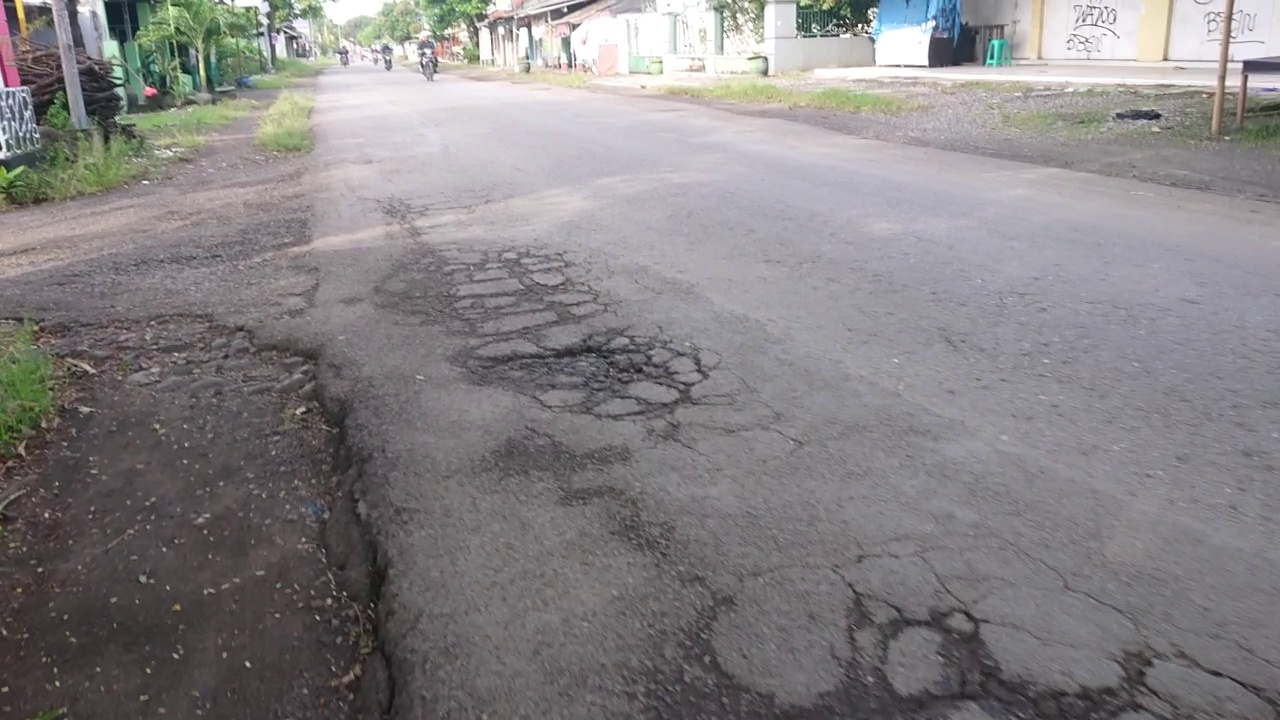Retak: (404, 226, 711, 503), (779, 580, 1272, 720)
